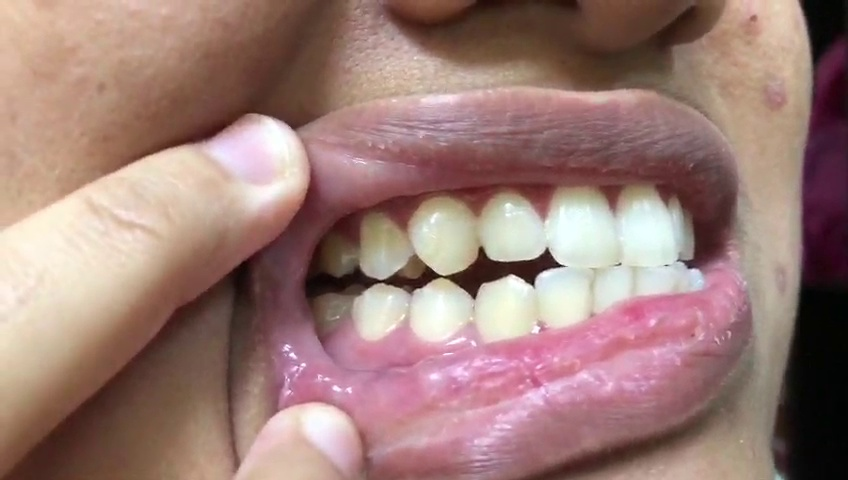1st Molar: (310, 292, 349, 338)
1st Premolar: (410, 277, 475, 343), (354, 207, 413, 279)
2nd Premolar: (349, 283, 409, 341), (321, 228, 356, 277)
Canine: (410, 194, 476, 277), (476, 272, 538, 344)
Central Incisor: (547, 182, 622, 268), (616, 185, 679, 268)
Lateral Incisor: (480, 192, 550, 260), (535, 265, 593, 329)
